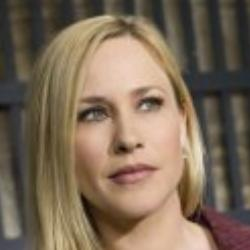face: (15, 10, 229, 238)
